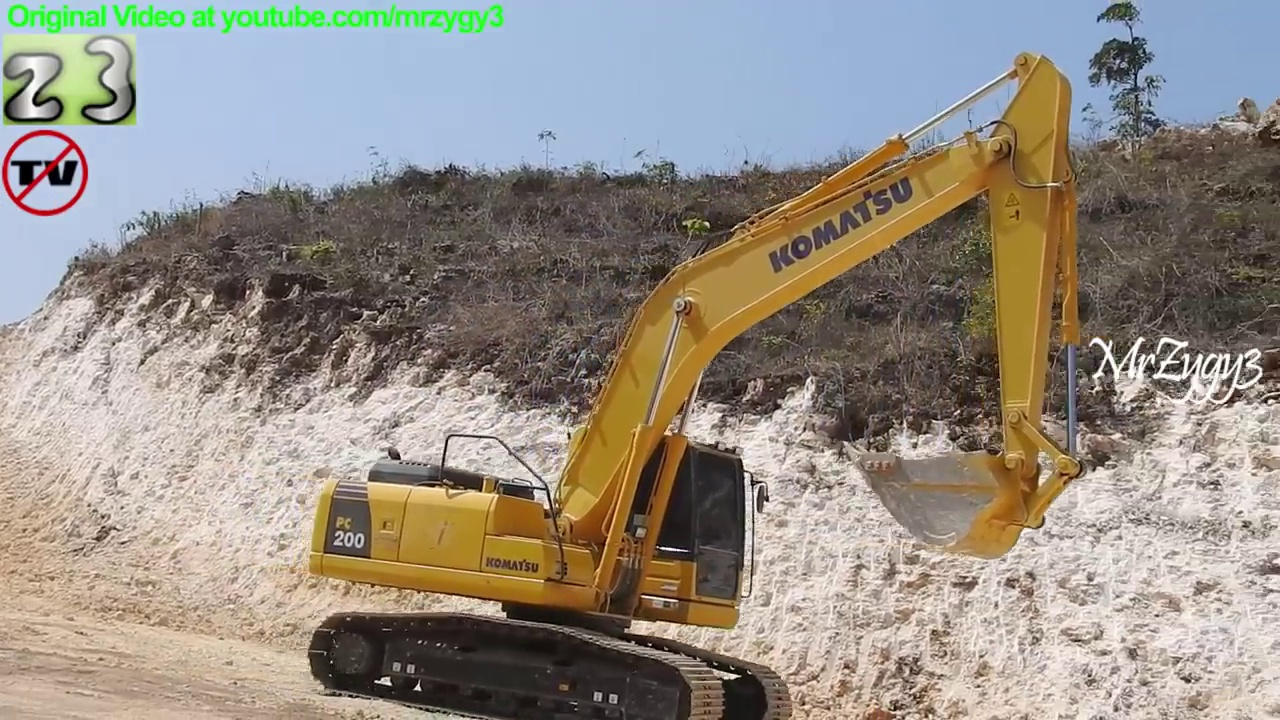excavator: (298, 43, 1093, 720)
